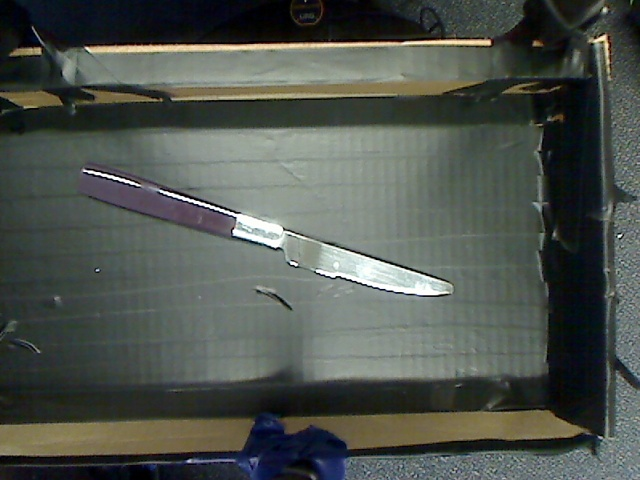knife: (59, 140, 467, 324)
